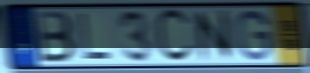3: (117, 9, 153, 65)
B: (33, 10, 78, 65)
C: (153, 7, 196, 65)
G: (235, 9, 274, 63)
L: (77, 12, 113, 62)
N: (191, 7, 237, 64)
